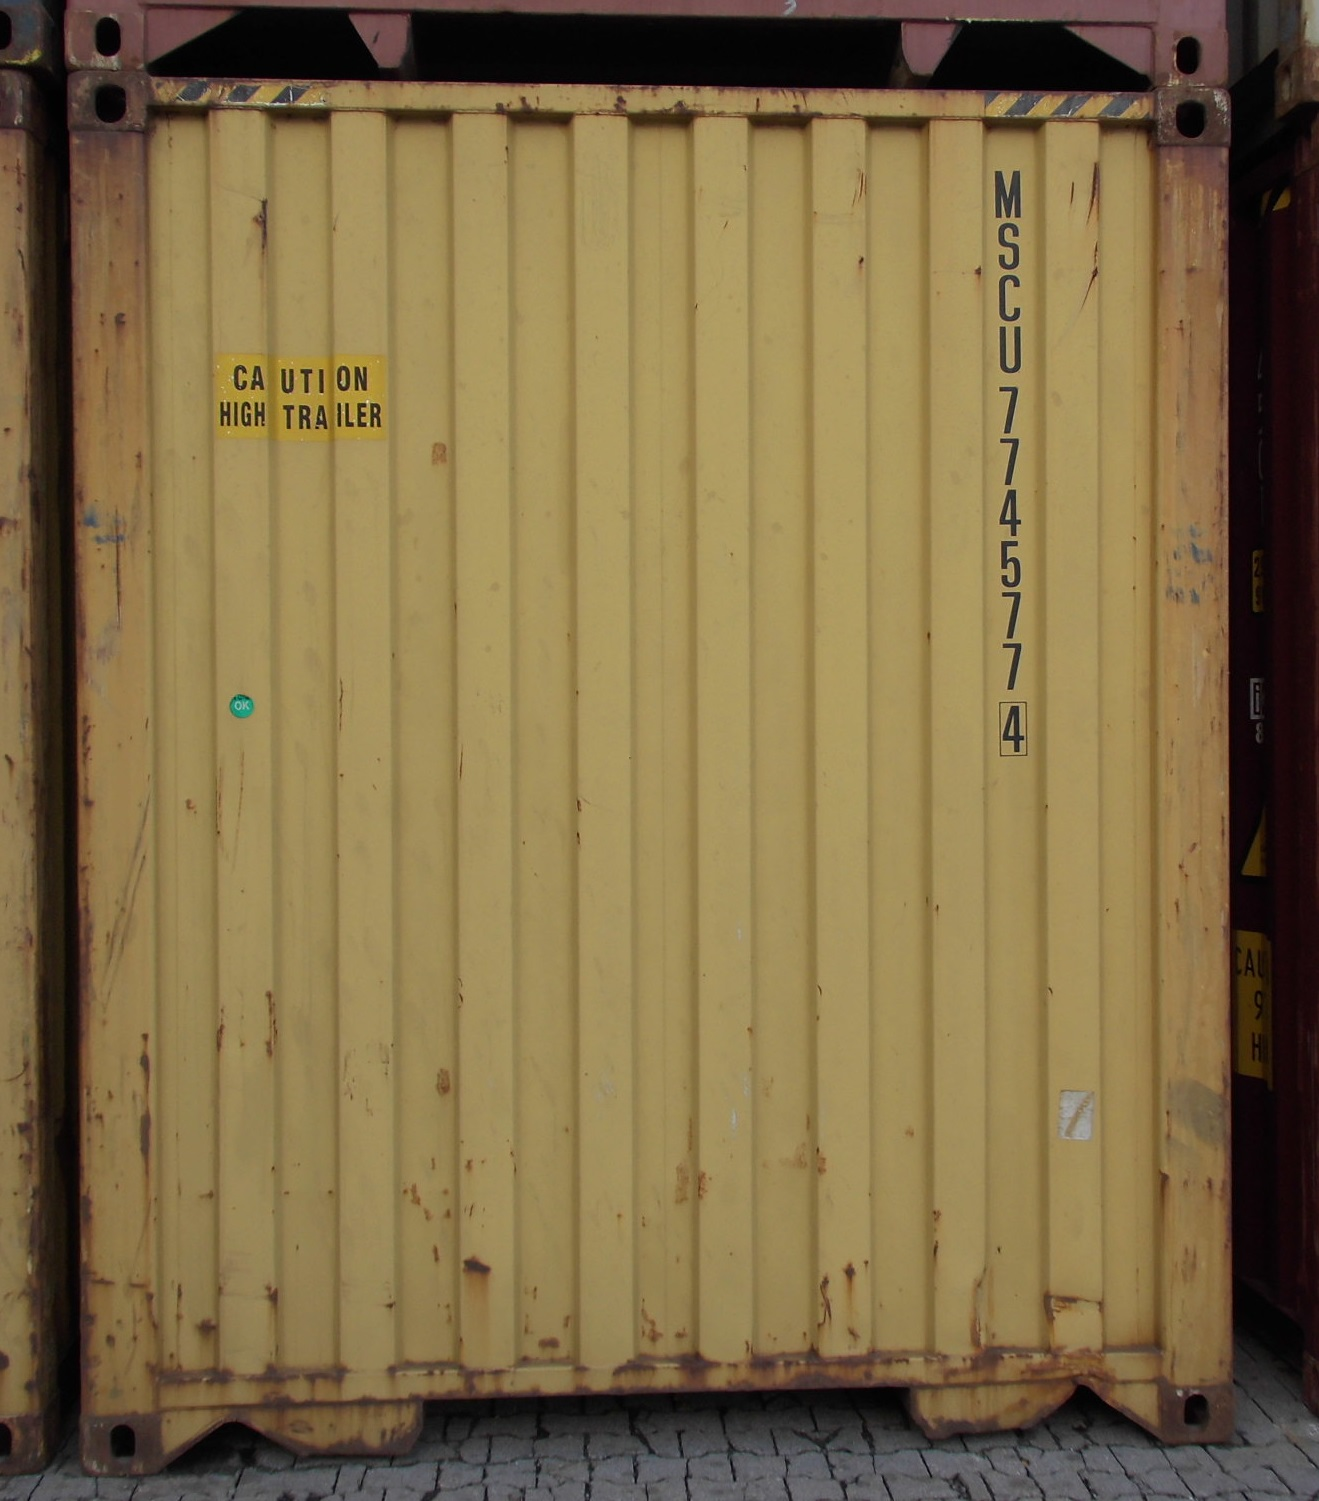container_no_door: (66, 60, 1236, 1467)
